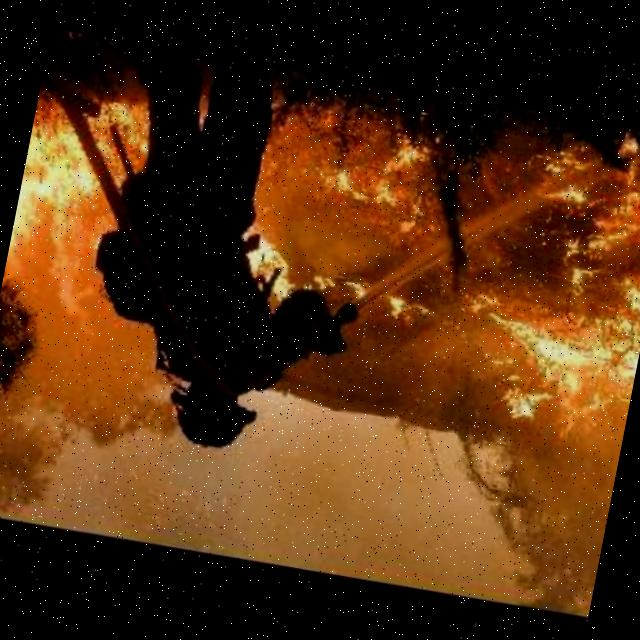fire: (430, 130, 640, 450), (239, 103, 460, 337), (0, 67, 156, 346)
